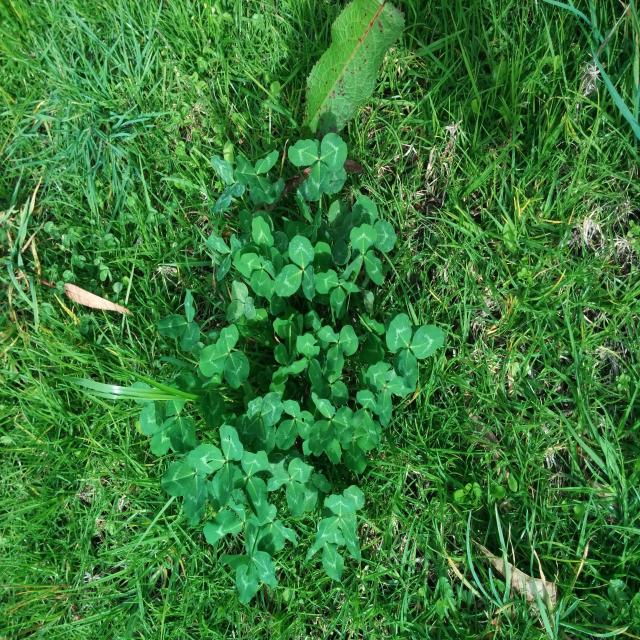Four Leaf Clover: (235, 392, 283, 455)
